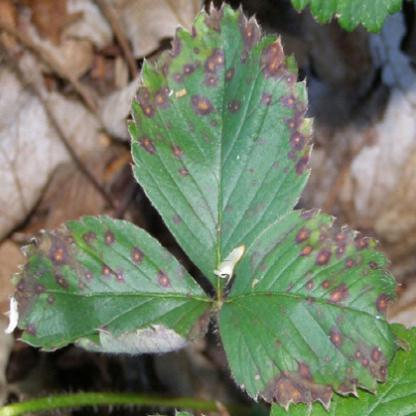Strawberry_Leaf_Spot: (126, 0, 316, 294), (218, 208, 411, 413), (0, 213, 212, 356)
